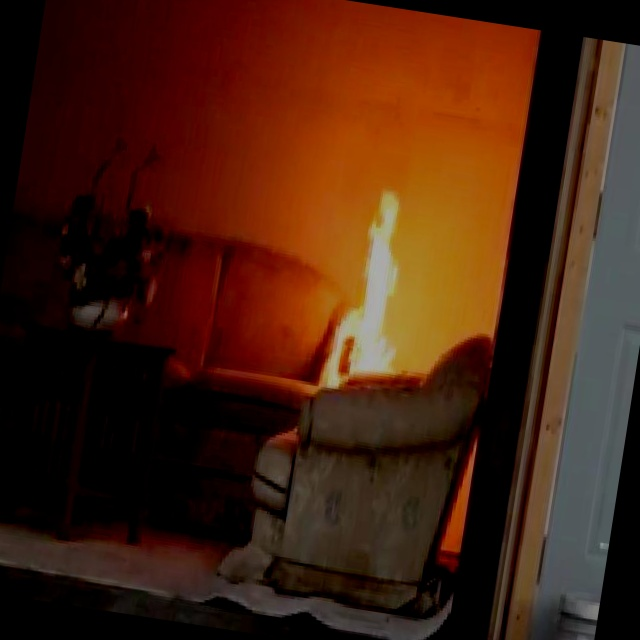fire: (318, 166, 431, 377)
